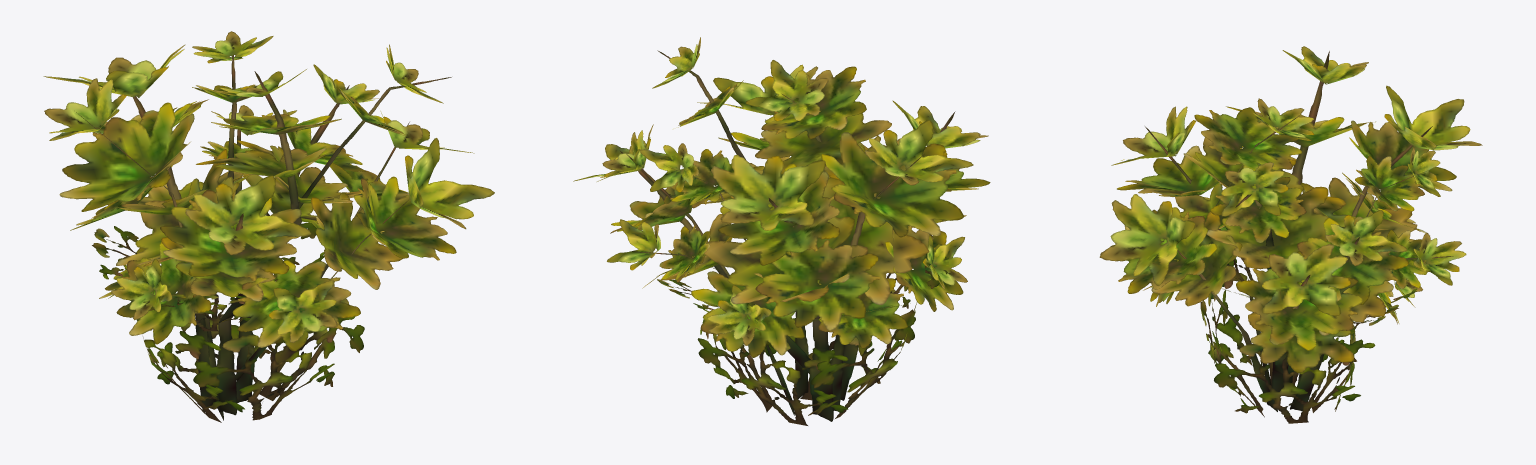
Rendered from cj_luoyang_zhiwu01_53_52_1475out.fbx.
3 renders of one model, left to right at view 1: azimuth 30°, elevation 25°; view 2: azimuth 150°, elevation 25°; view 3: azimuth 270°, elevation 25°, orthographic. The views are drawn at different scales.
Visible parts, largest first — view 1: cj_luoyang_zhiwu01; view 2: cj_luoyang_zhiwu01; view 3: cj_luoyang_zhiwu01.
Part boxes in pixels (<box>): cj_luoyang_zhiwu01: <box>43,31,494,422</box>; cj_luoyang_zhiwu01: <box>573,37,990,425</box>; cj_luoyang_zhiwu01: <box>1099,46,1482,423</box>.
Bounding box in the file's own units: 2.51 × 1.96 × 2.52.
